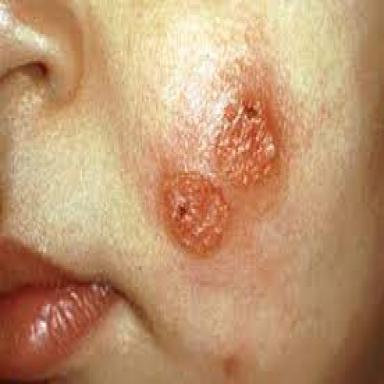Leishmanios: (205, 64, 285, 194), (162, 171, 229, 255)
